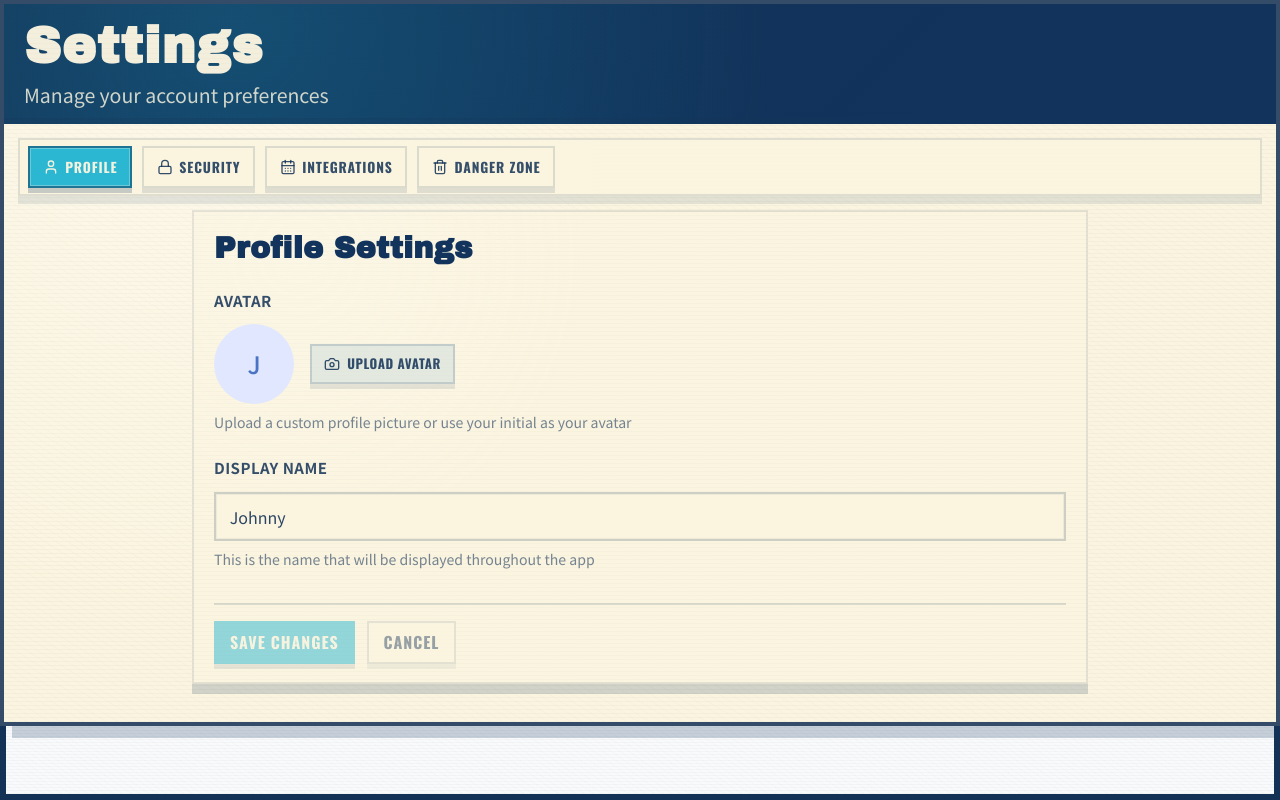
Test case: SettingsPage › Profile Tab › should reset form on cancel
Replace the text in the field with test id "settings-input-display-name" with "New Name" at (640, 517), box [214,492,1066,542]
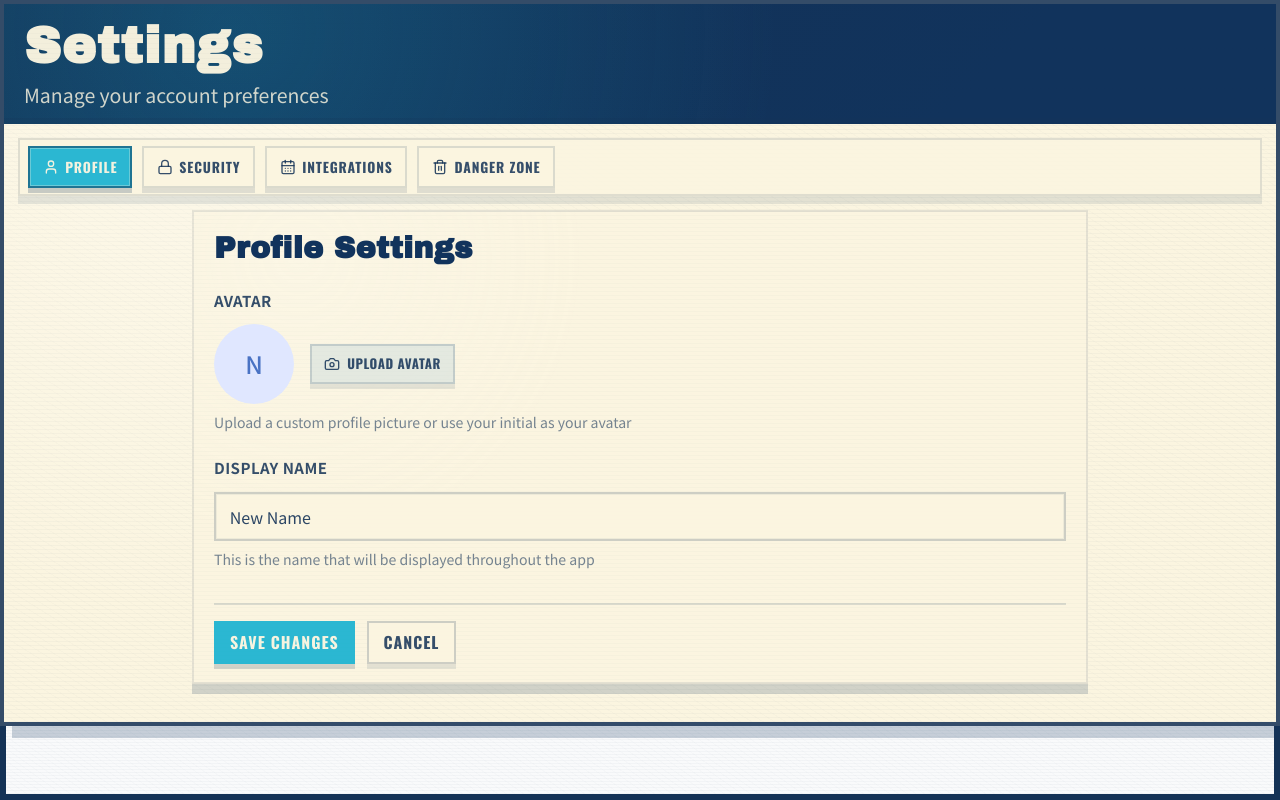
Click the button with test id "settings-button-cancel".
click(411, 642)  # box [367,621,456,664]
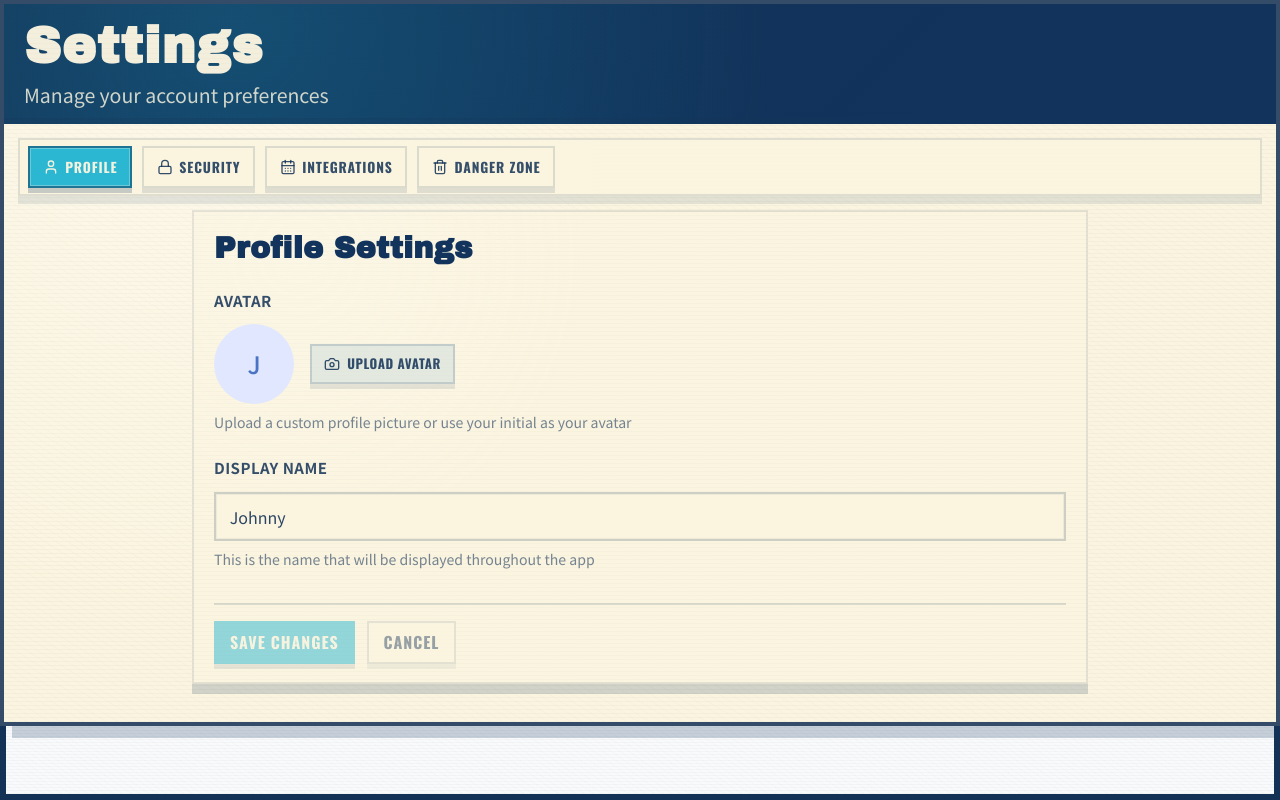
Now the field with test id "settings-input-display-name" holds "Johnny", box [214,492,1066,542]
